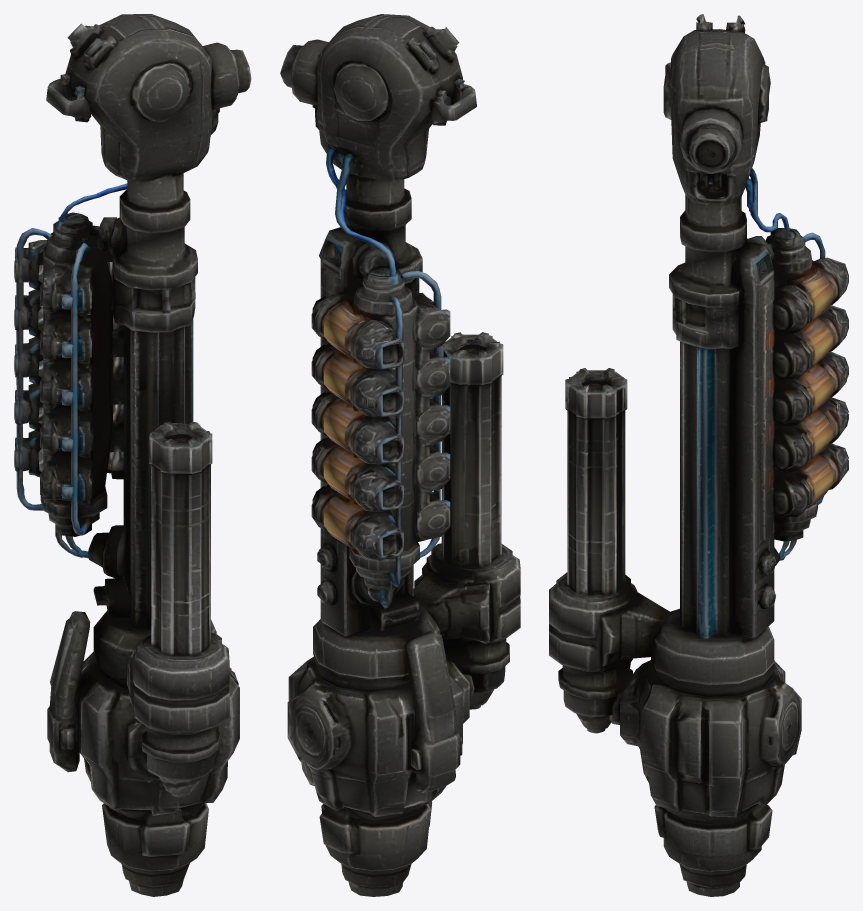
Rendered from vector-mast.glb.
3 renders of one model, left to right at view 1: azimuth 30°, elevation 25°; view 2: azimuth 150°, elevation 25°; view 3: azimuth 270°, elevation 25°, orthographic. The views are drawn at different scales.
Parts seen in each view (by area): view 1: tripo_node_13cbafdc-aea3-4fe4-bd2d-fe4d133be2c0; view 2: tripo_node_13cbafdc-aea3-4fe4-bd2d-fe4d133be2c0; view 3: tripo_node_13cbafdc-aea3-4fe4-bd2d-fe4d133be2c0.
Part boxes in pixels (x1=…): tripo_node_13cbafdc-aea3-4fe4-bd2d-fe4d133be2c0: x1=14, y1=14, x2=251, y2=896; tripo_node_13cbafdc-aea3-4fe4-bd2d-fe4d133be2c0: x1=280, y1=14, x2=520, y2=896; tripo_node_13cbafdc-aea3-4fe4-bd2d-fe4d133be2c0: x1=549, y1=14, x2=848, y2=896.
Bounding box in the file's own units: 0.2207 × 0.998 × 0.3223.
1 material, 1 textured.
